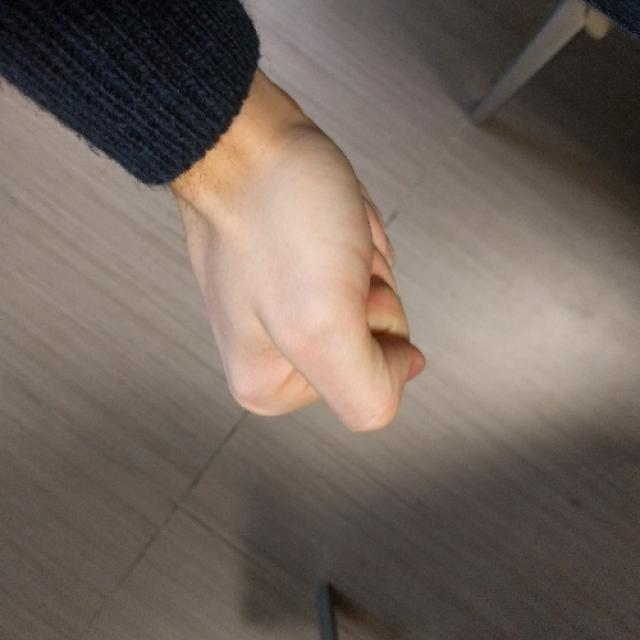rock: (195, 140, 428, 437)
